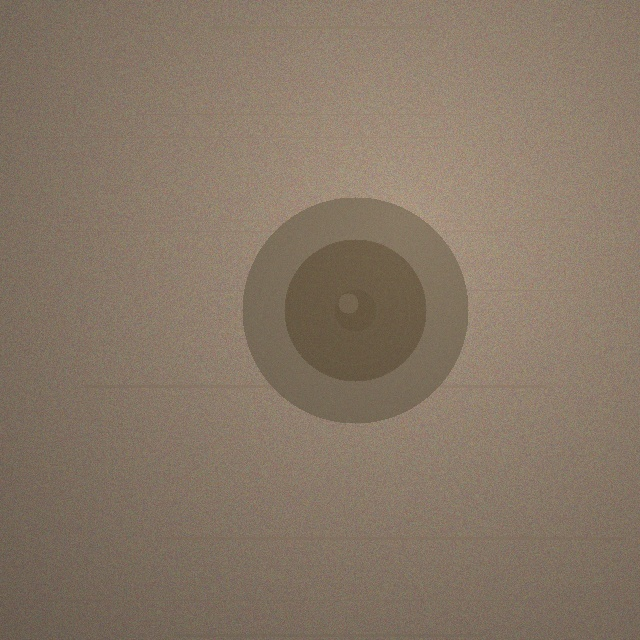good: (242, 197, 468, 423)
